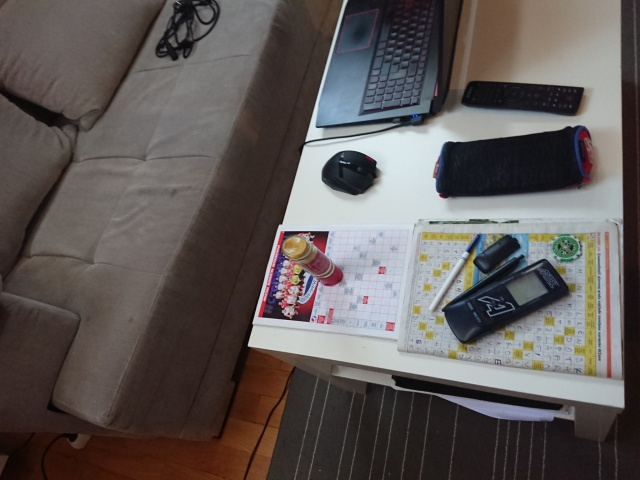Kotanyi Curry Spices Mix 70g: (280, 235, 345, 288)
